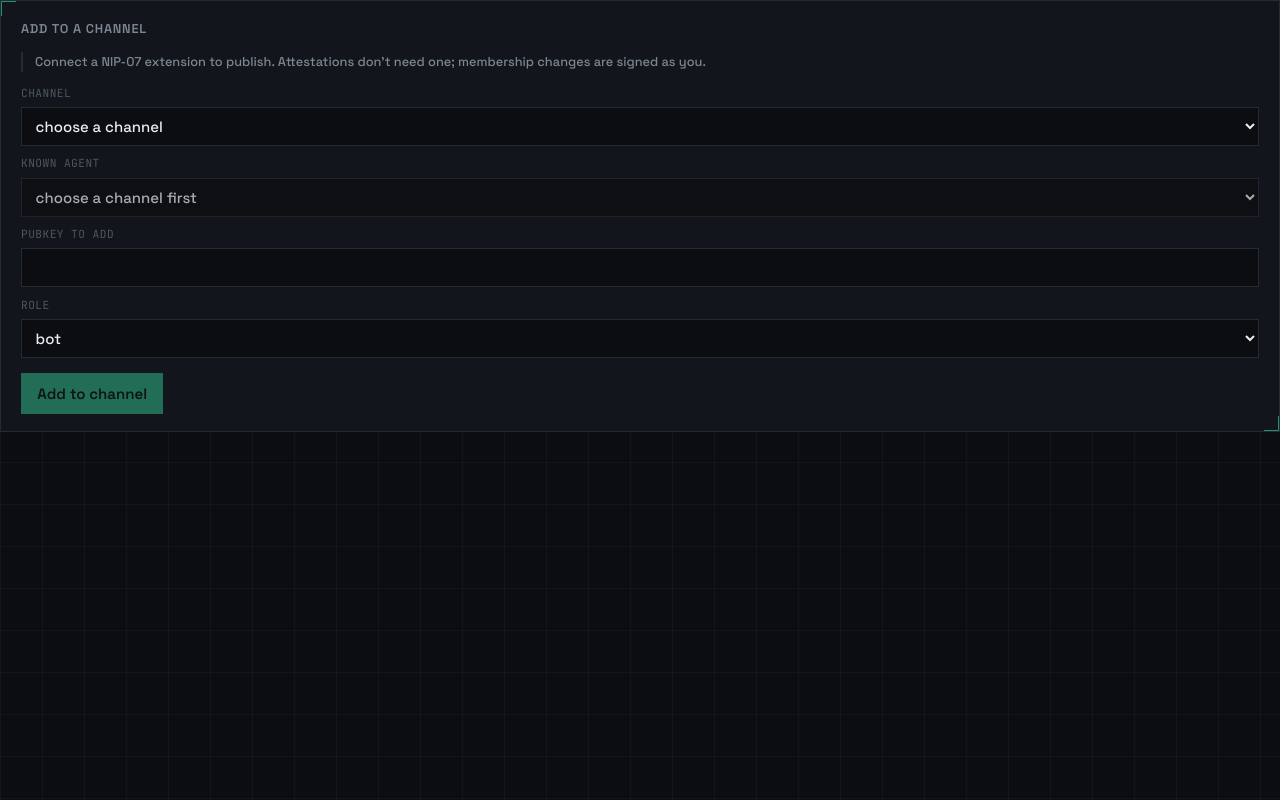
AppScreens › offers a known agent not yet in the selected channel, filling the pubkey field on pick
Select "general" in the dropdown labelled "Channel": (640, 126) [21,107,1259,146]
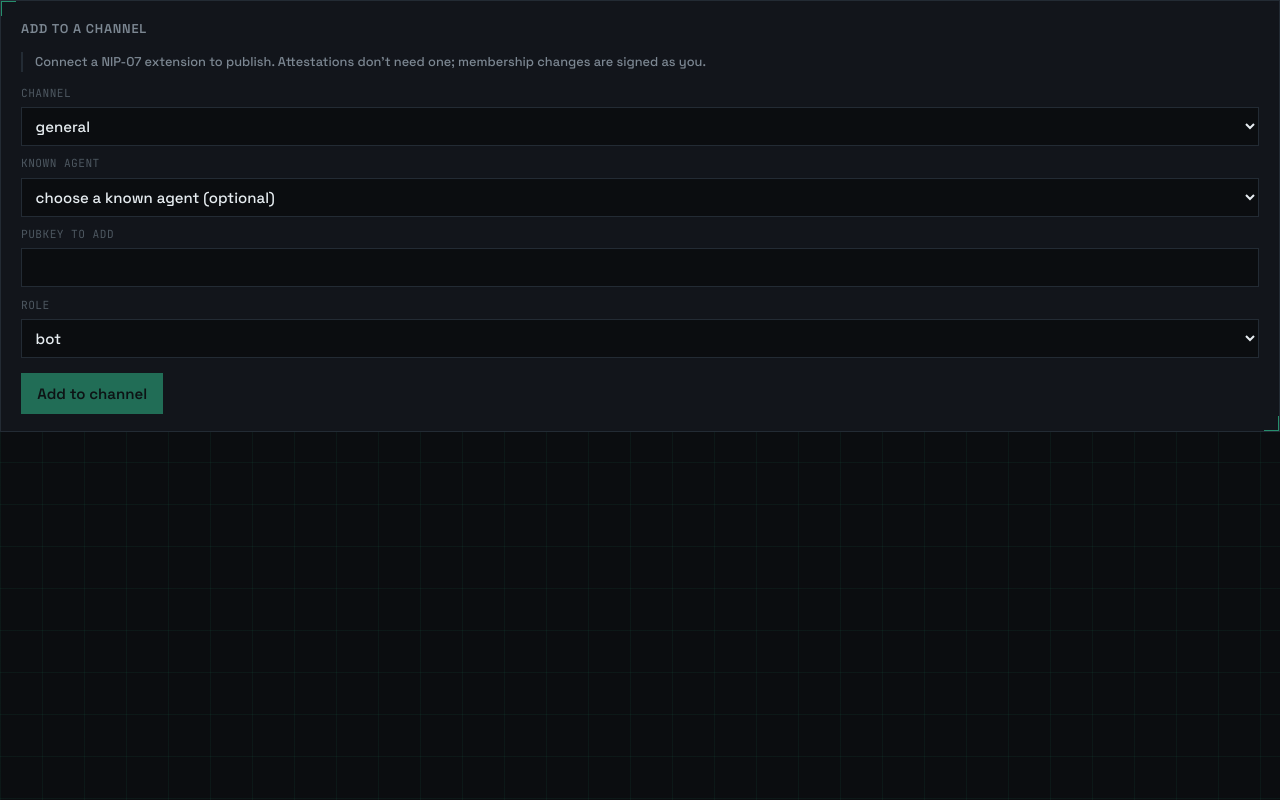
Select "Release Bot" in the dropdown labelled "Known agent": (640, 197) [21,178,1259,216]
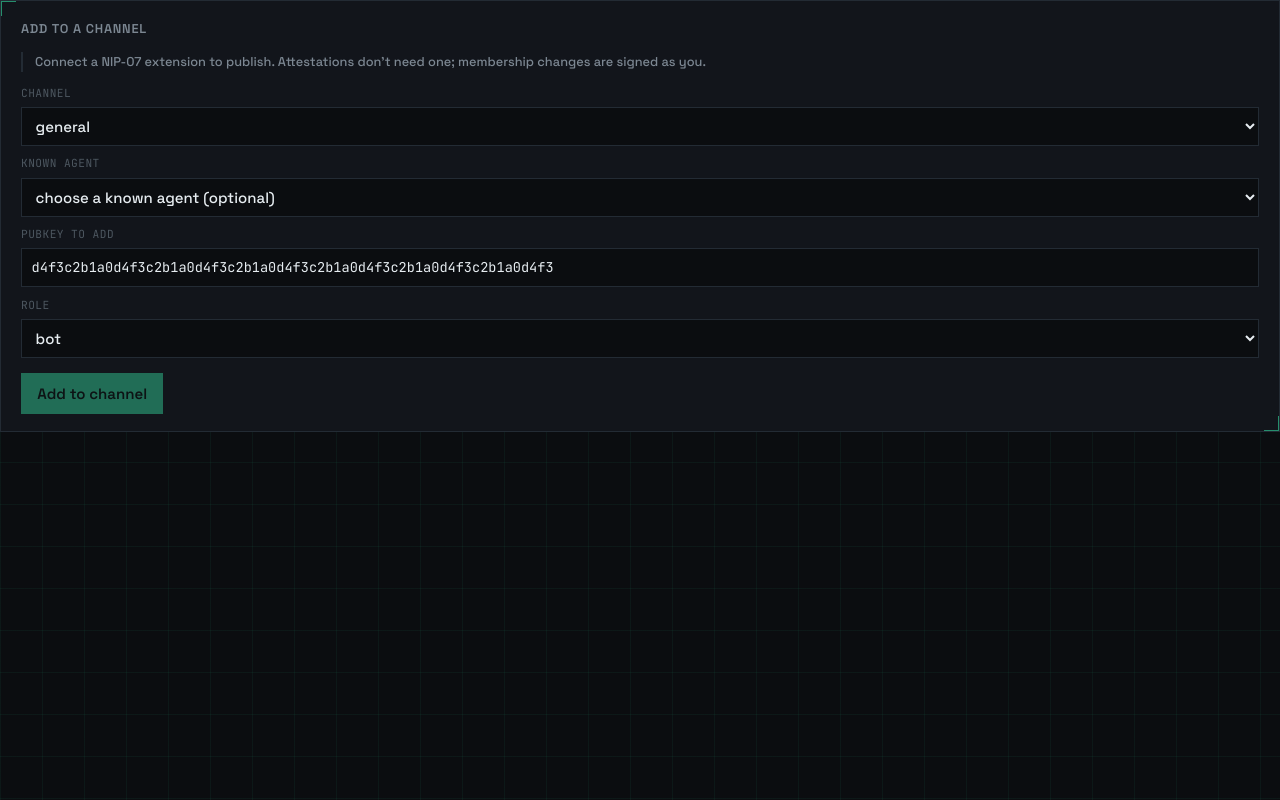
Expected: the field labelled "Pubkey to add" holds "d4f3c2b1a0d4f3c2b1a0d4f3c2b1a0d4f3c2b1a0d4f3c2b1a0d4f3c2b1a0d4f3", [21,248,1259,287]
